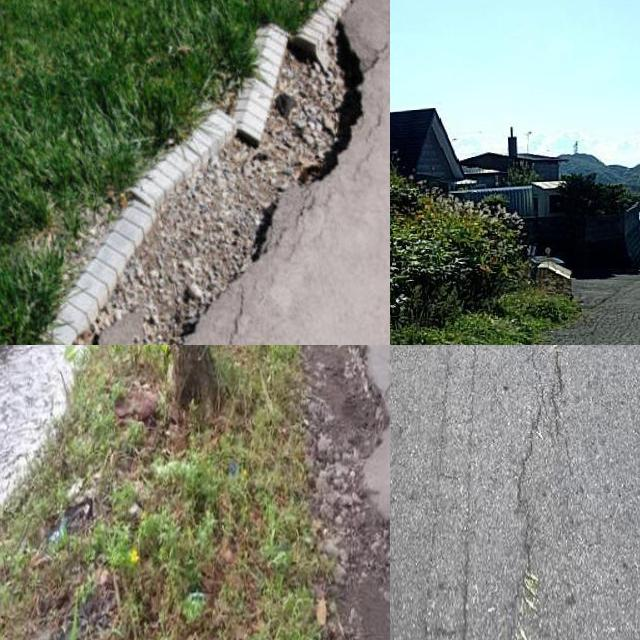Memanjang: (496, 345, 588, 640)
Pinggir: (0, 0, 388, 345), (300, 345, 390, 640)
